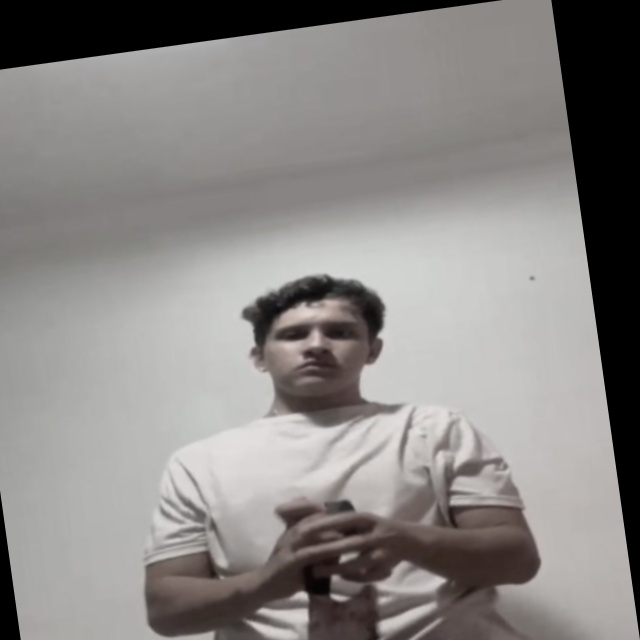Sharp-Object: (279, 585, 396, 640)
